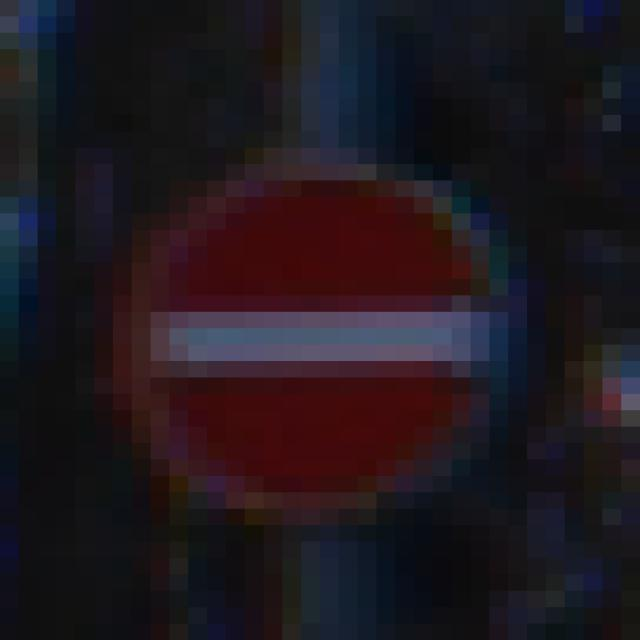No Entry: (95, 99, 547, 559)
